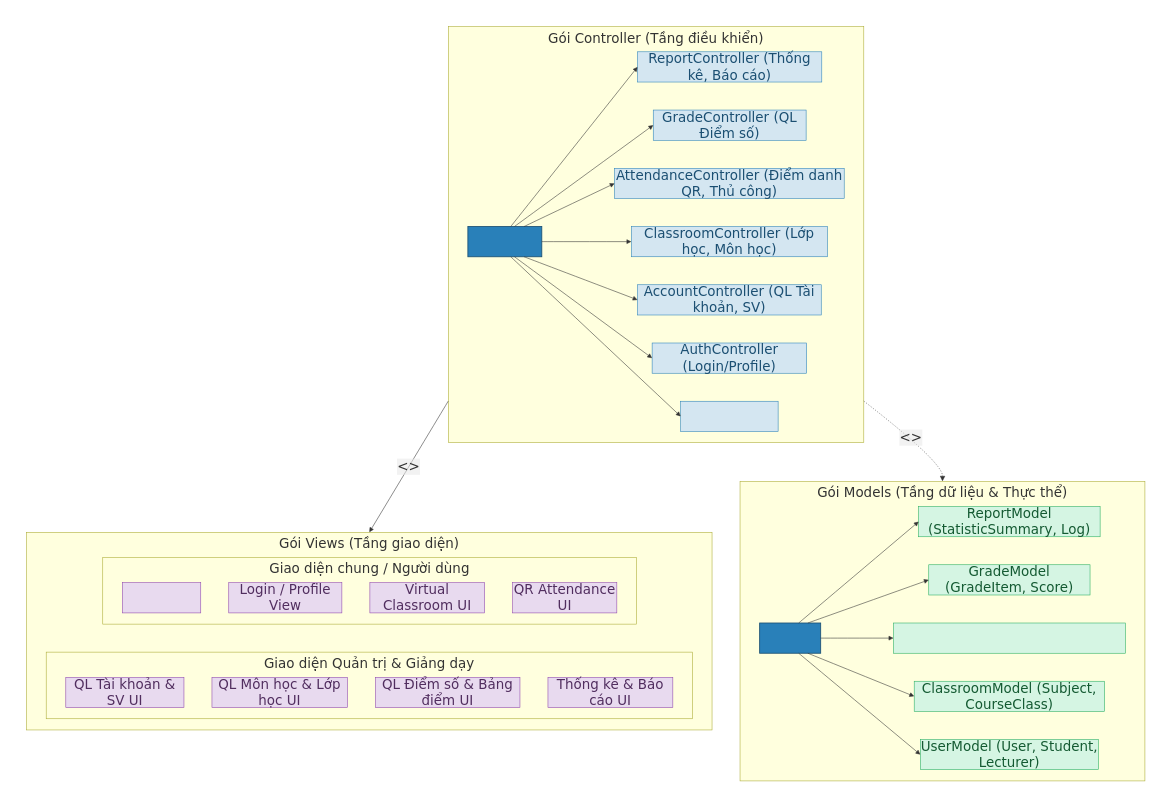
Some shapes in this 1155 by 791 pixel diagram are drawn without their labels. The shapes that lost their labels are listed below. From the top down, each one's centre as x and y in pixels, then its label:
(504,241): Controller
(729,416): HomeController
(161,597): Home View
(790,637): Models
(1009,637): AttendanceModel (QRSession, AttendanceRecord)
